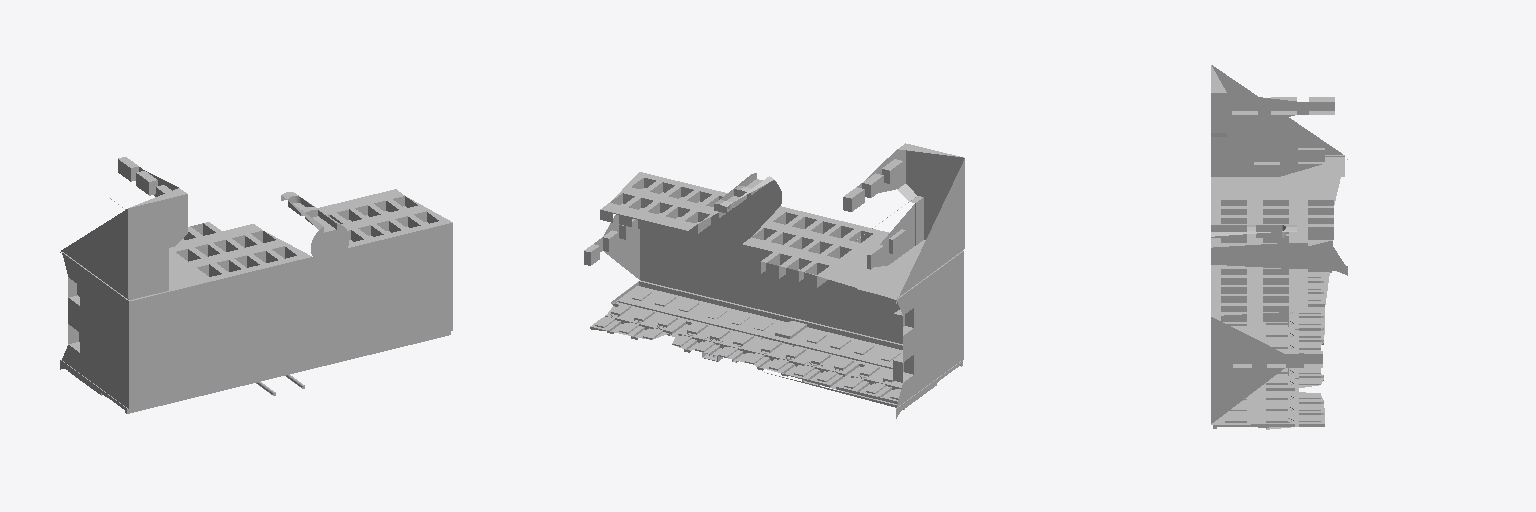
The model's file is stowarzyszenie jedna druga.obj.
3 views of the same model, side by side, from view 1: azimuth 30°, elevation 25°; view 2: azimuth 150°, elevation 25°; view 3: azimuth 270°, elevation 25° (orthographic).
Parts seen in each view (by area): view 1: Stowarzyszenie_Kupców_obj_0; view 2: Stowarzyszenie_Kupców_obj_0; view 3: Stowarzyszenie_Kupców_obj_0.
Boxes of the visible parts, box(x1,y1,x2,y2) form: Stowarzyszenie_Kupców_obj_0: box(60, 157, 452, 413); Stowarzyszenie_Kupców_obj_0: box(584, 143, 964, 418); Stowarzyszenie_Kupców_obj_0: box(1211, 65, 1347, 429).
Size of the model in its own units: 0.0364 by 0.024 by 0.0134.